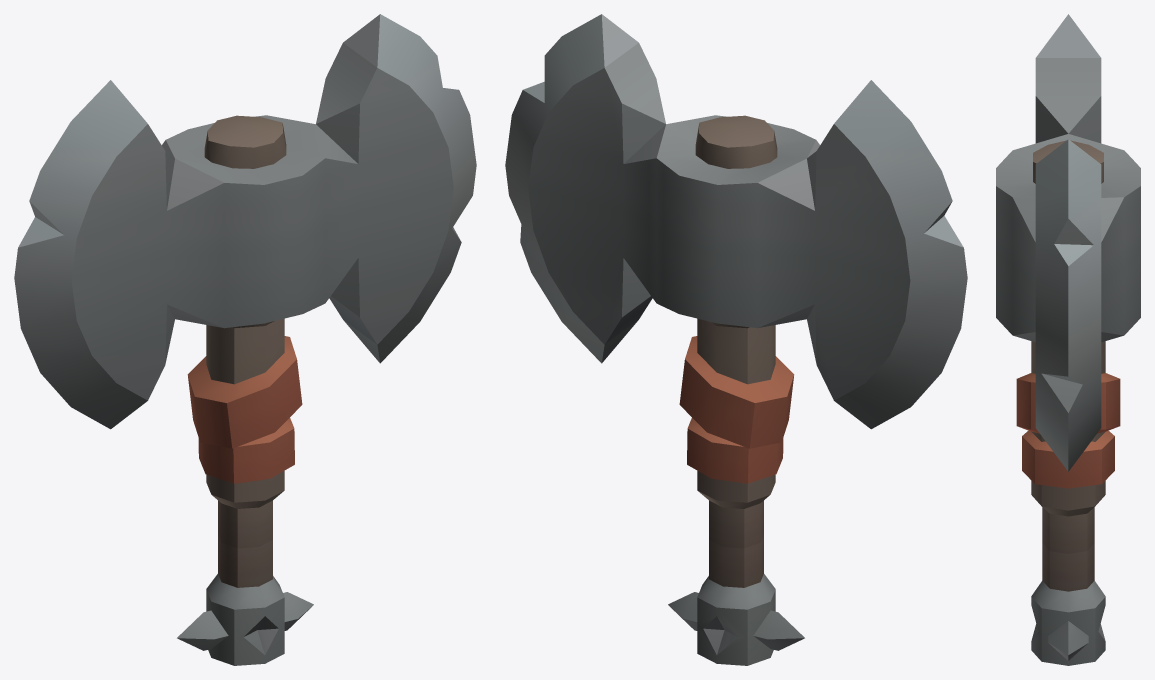
Rendered from skeleton_axe.glb.
3 views of the same model, side by side, from view 1: azimuth 30°, elevation 25°; view 2: azimuth 150°, elevation 25°; view 3: azimuth 270°, elevation 25° (orthographic). The views are drawn at different scales.
Parts seen in each view (by area): view 1: Skeleton_Axe; view 2: Skeleton_Axe; view 3: Skeleton_Axe.
Part boxes in pixels (x1,y1,x2,y2): Skeleton_Axe: (14,14,476,665); Skeleton_Axe: (505,14,967,665); Skeleton_Axe: (996,14,1140,665).
Bounding box in the file's own units: 0.9886 × 1.25 × 0.2819.
Materials: 1 (1 with a texture image).
